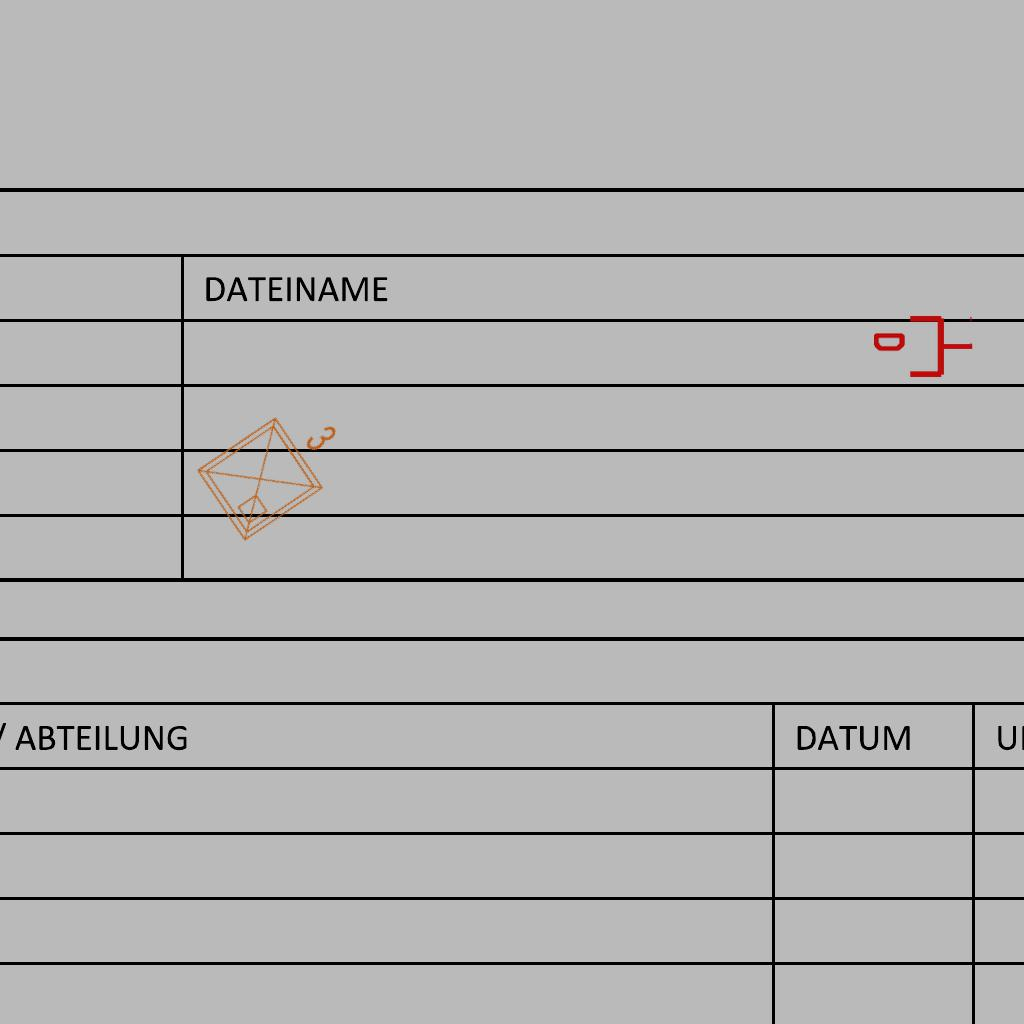Datenanschluss_einfach: (874, 312, 974, 381)
Einbaudownlights_LED_Konferenzraeume: (184, 380, 368, 552)
